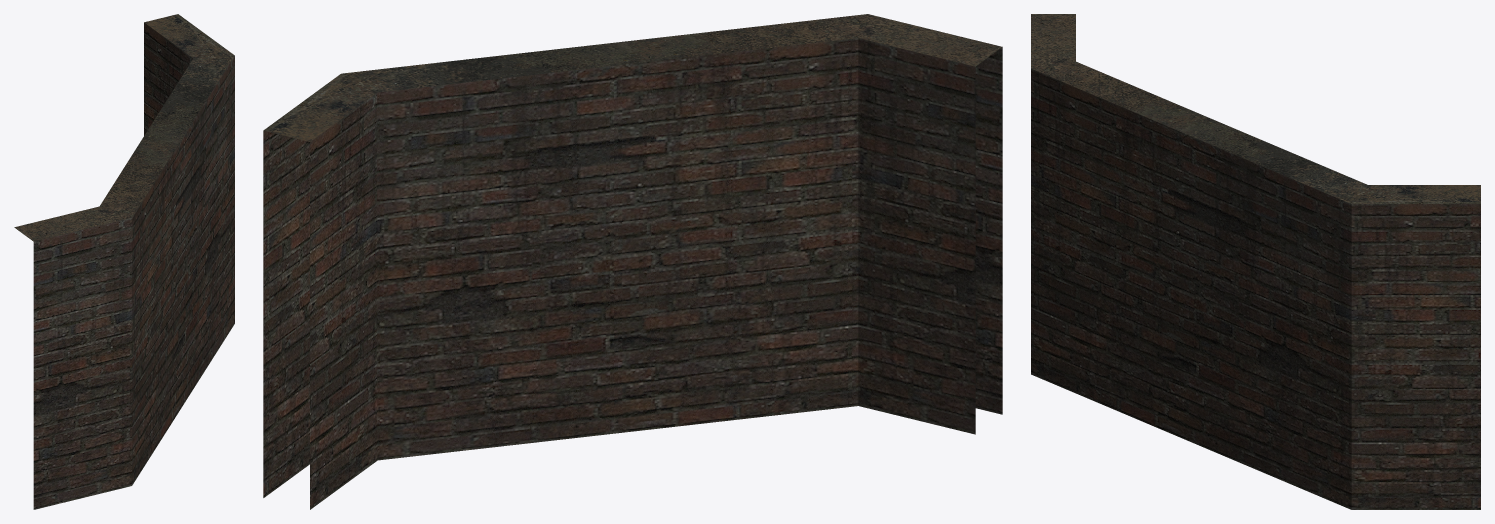
The model's file is wall_hs_1_m1a_1.dae.
3 renders of one model, left to right at view 1: azimuth 30°, elevation 25°; view 2: azimuth 150°, elevation 25°; view 3: azimuth 270°, elevation 25°, orthographic. The views are drawn at different scales.
Parts seen in each view (by area): view 1: wall_hs_1_m1a_1; view 2: wall_hs_1_m1a_1; view 3: wall_hs_1_m1a_1.
Part boxes in pixels (<box>): wall_hs_1_m1a_1: <box>14,14,234,509</box>; wall_hs_1_m1a_1: <box>263,14,1002,509</box>; wall_hs_1_m1a_1: <box>1031,14,1480,509</box>.
Bounding box in the file's own units: 4 × 4 × 3.
Materials: 2 (2 with a texture image).
